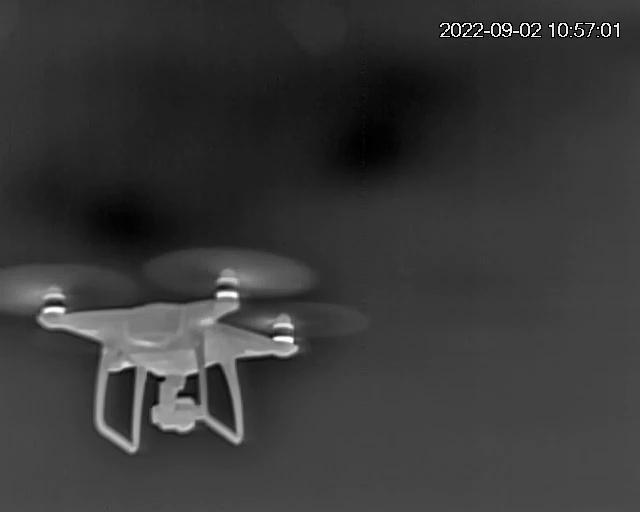DJI-Phantom: (2, 265, 310, 457)
